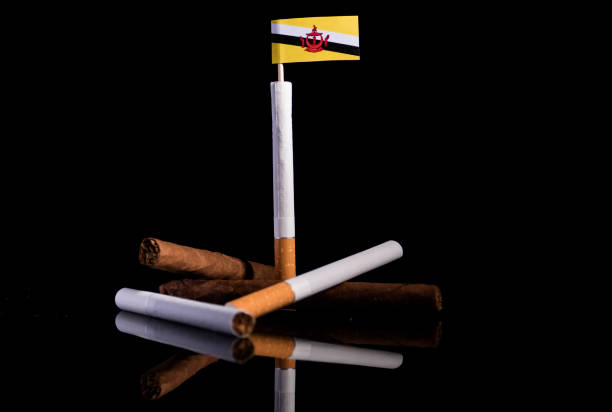cigarette: (223, 239, 405, 318), (114, 310, 258, 364), (115, 287, 256, 338), (137, 236, 275, 281), (248, 336, 405, 371), (272, 80, 297, 280), (139, 346, 221, 400), (155, 278, 217, 301), (273, 356, 298, 412)
